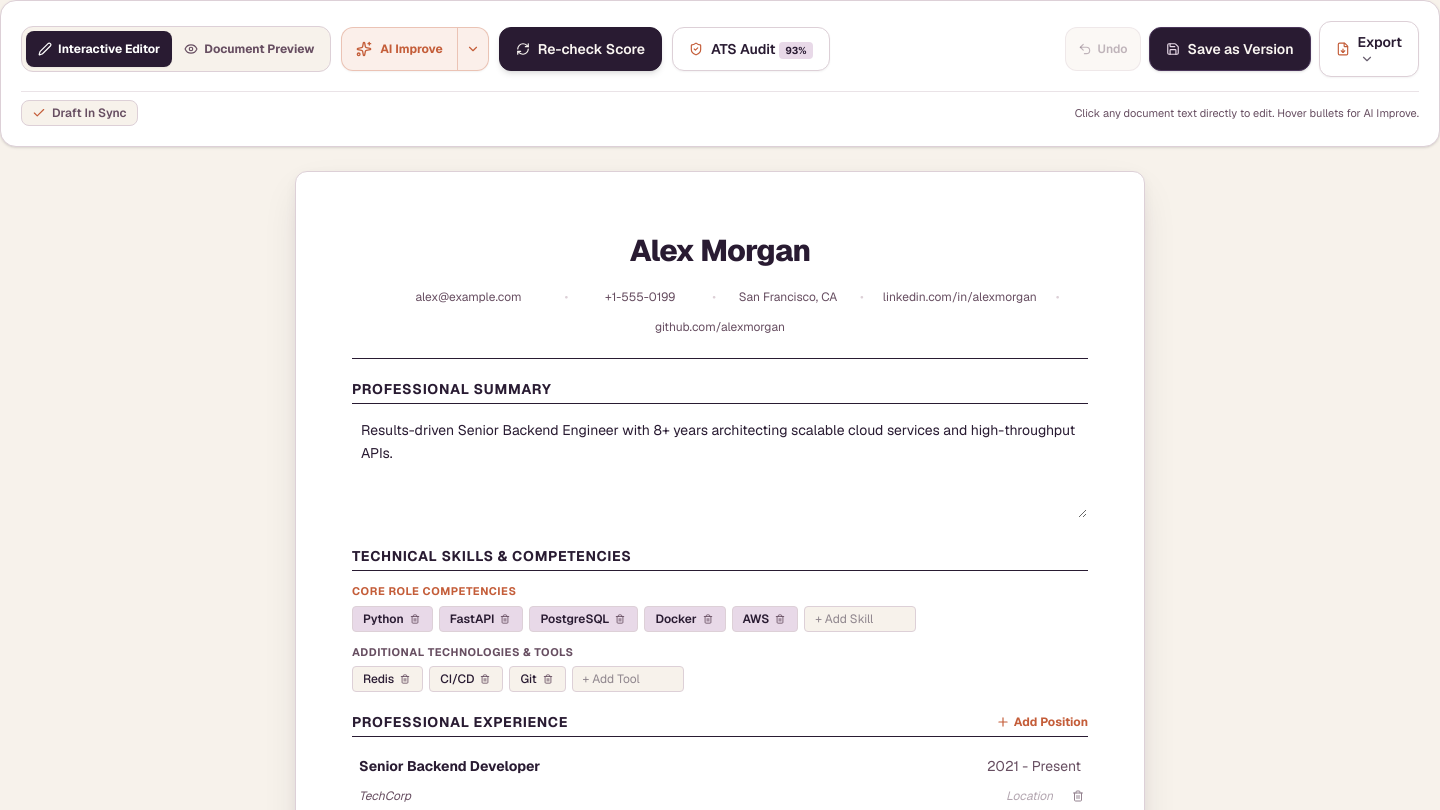
Test: Phase 6.4 - Inline ATS Document Resume Editor & Repeatable AI Improve › 1. Preview shows a properly structured continuous resume document canvas
# Toggle to Document Preview mode
Click the button "Document Preview". click: (249, 49)
box: [172,31,326,67]
(page scrolled)
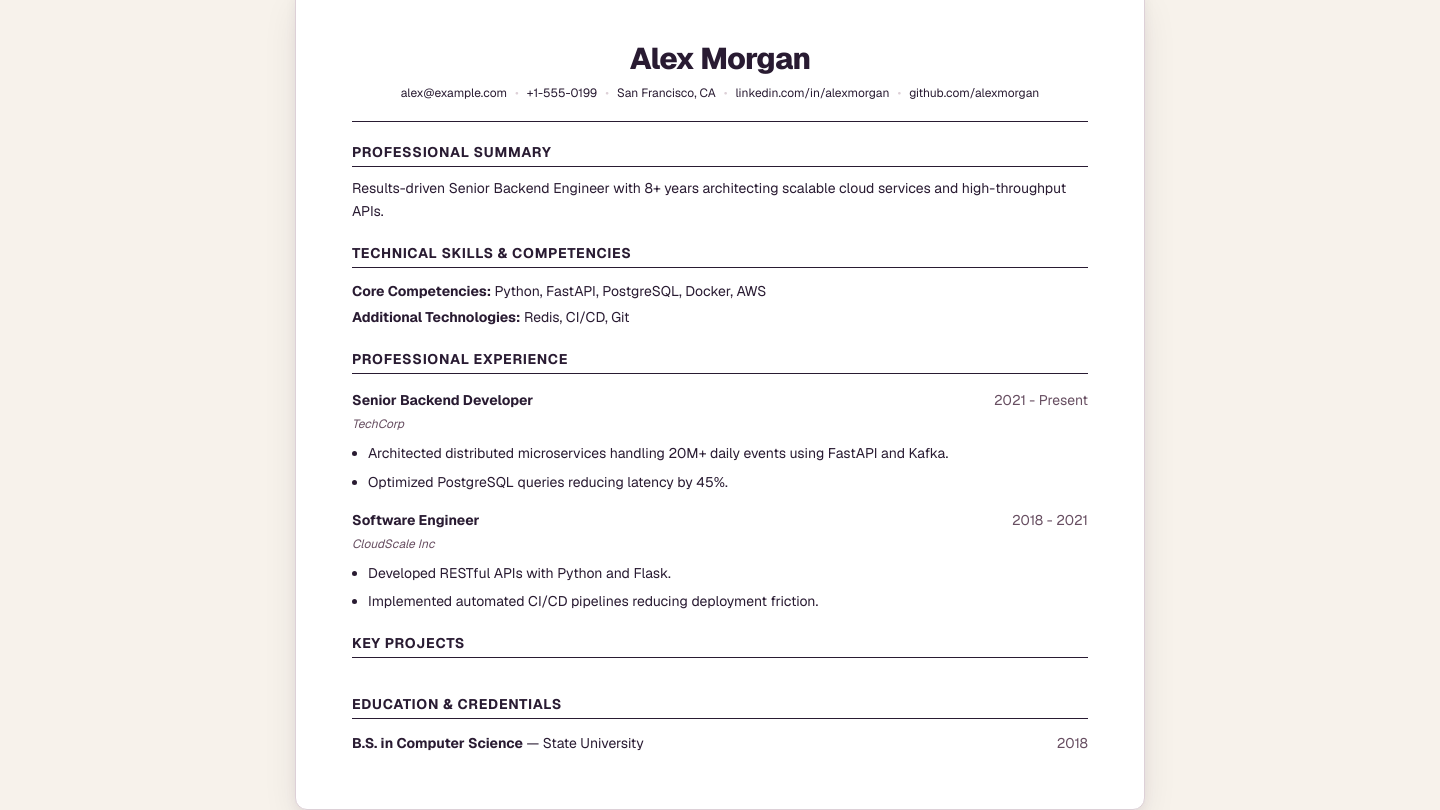
expect the heading "Alex Morgan" is shown: met, box [630,39,810,78]
expect the text "alex@example.com" is shown: met, box [401,85,507,101]
expect the text "Results-driven Senior Backend Engineer with 8+ years architecting scalable cloud services and high-throughput APIs." is shown: met, box [352,179,1066,220]
